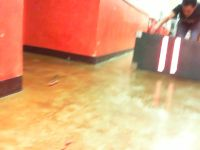switch: (157, 35, 169, 73), (169, 37, 181, 75)
